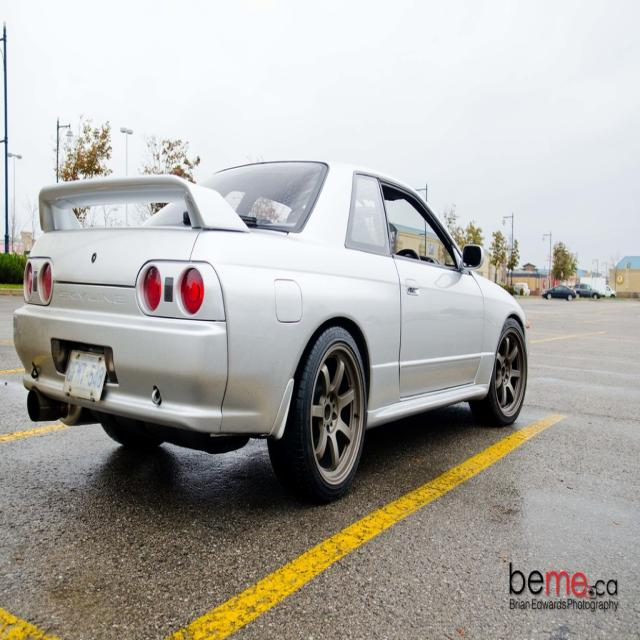car: (20, 153, 512, 494), (542, 281, 574, 300), (575, 281, 595, 298)
